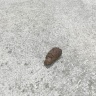Dog: (43, 48, 63, 63)
